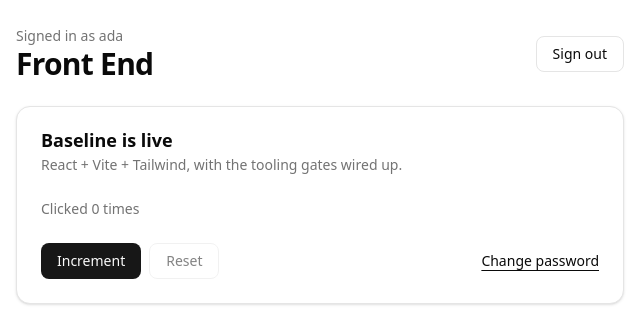
Test: Showcase › keeps the count and reports backend failures
Click the button "Increment".
click(91, 261)  # box [41,243,141,279]
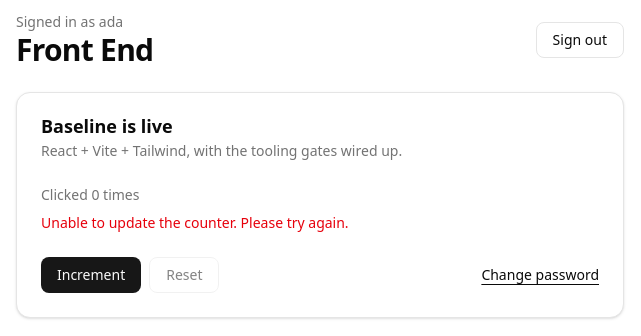
Expected: the text with test id "count" reads "Clicked 0 times", [41,185,139,204]
Expected: the message reads "Unable to update the counter. Please try again.", [41,213,349,232]
